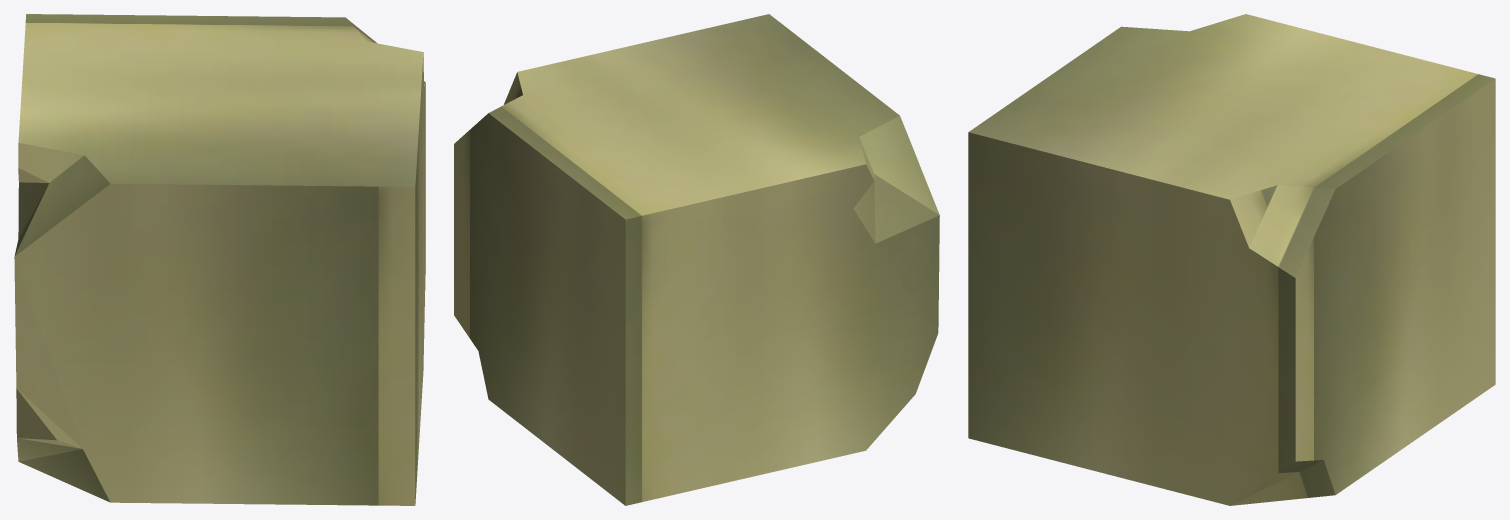
The model's file is TheOctagon_Floor_1_Col_4.002.gltf.
The picture shows the model from 3 angles, left to right: view 1: azimuth 30°, elevation 25°; view 2: azimuth 150°, elevation 25°; view 3: azimuth 270°, elevation 25°; orthographic projection. The views are drawn at different scales.
Visible parts, largest first — view 1: TheOctagon_Floor_1_Col_4.002; view 2: TheOctagon_Floor_1_Col_4.002; view 3: TheOctagon_Floor_1_Col_4.002.
Part boxes in pixels (box(x1,y1,x2,y2)): TheOctagon_Floor_1_Col_4.002: box(14, 14, 425, 505); TheOctagon_Floor_1_Col_4.002: box(454, 14, 939, 505); TheOctagon_Floor_1_Col_4.002: box(968, 14, 1495, 505).
Bounding box in the file's own units: 2.94 × 1.88 × 2.93.
Materials: 1 (1 with a texture image).
